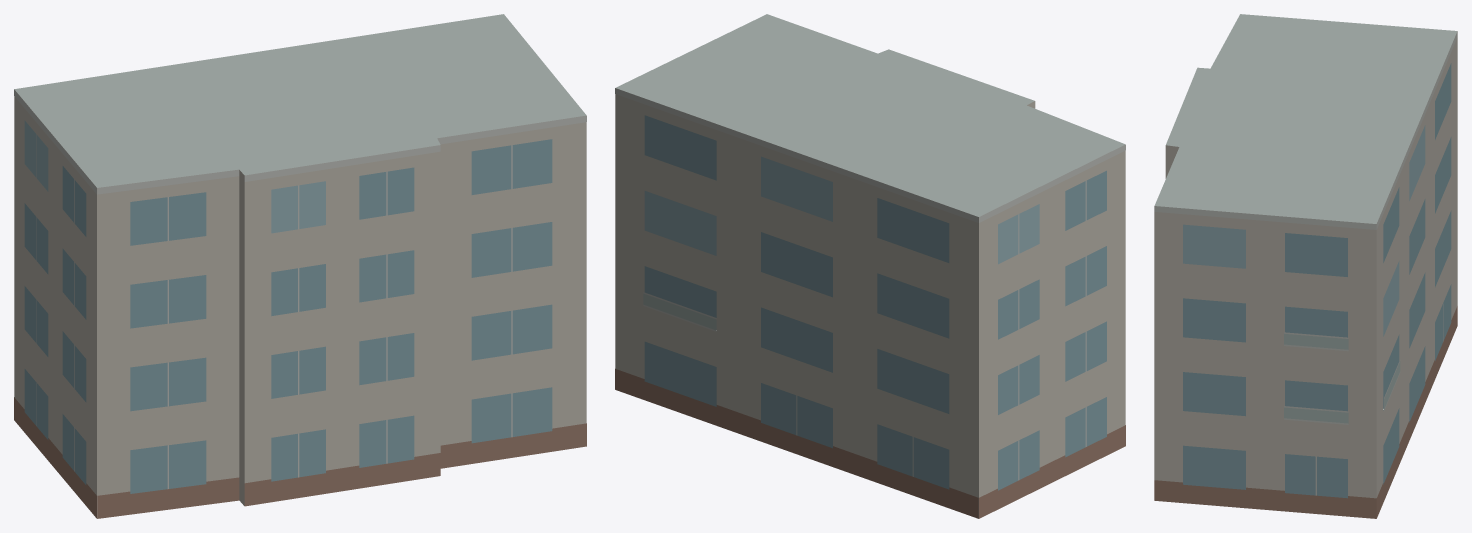
The model's file is survey-upis-32707758.glb.
3 views of the same model, side by side, from view 1: azimuth 30°, elevation 25°; view 2: azimuth 150°, elevation 25°; view 3: azimuth 270°, elevation 25° (orthographic). The views are drawn at different scales.
Visible parts, largest first — view 1: survey-upis-32707758.tmp; view 2: survey-upis-32707758.tmp; view 3: survey-upis-32707758.tmp.
Part boxes in pixels (x1=…): survey-upis-32707758.tmp: x1=14, y1=14, x2=586, y2=518; survey-upis-32707758.tmp: x1=615, y1=14, x2=1125, y2=518; survey-upis-32707758.tmp: x1=1154, y1=14, x2=1457, y2=518.
Bounding box in the file's own units: 18.66 × 12.2 × 11.38.
